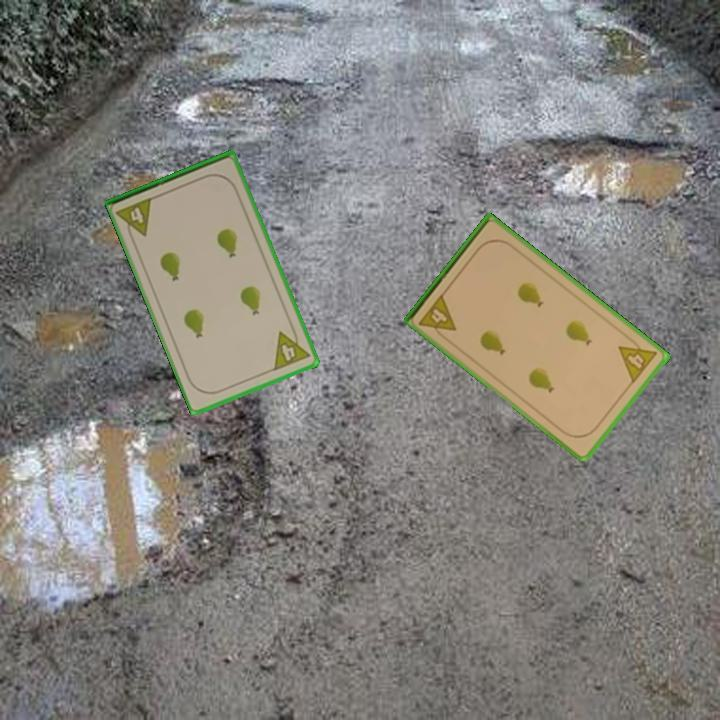4p: (615, 332, 660, 386), (415, 290, 459, 343), (270, 323, 313, 374), (114, 194, 156, 243)
